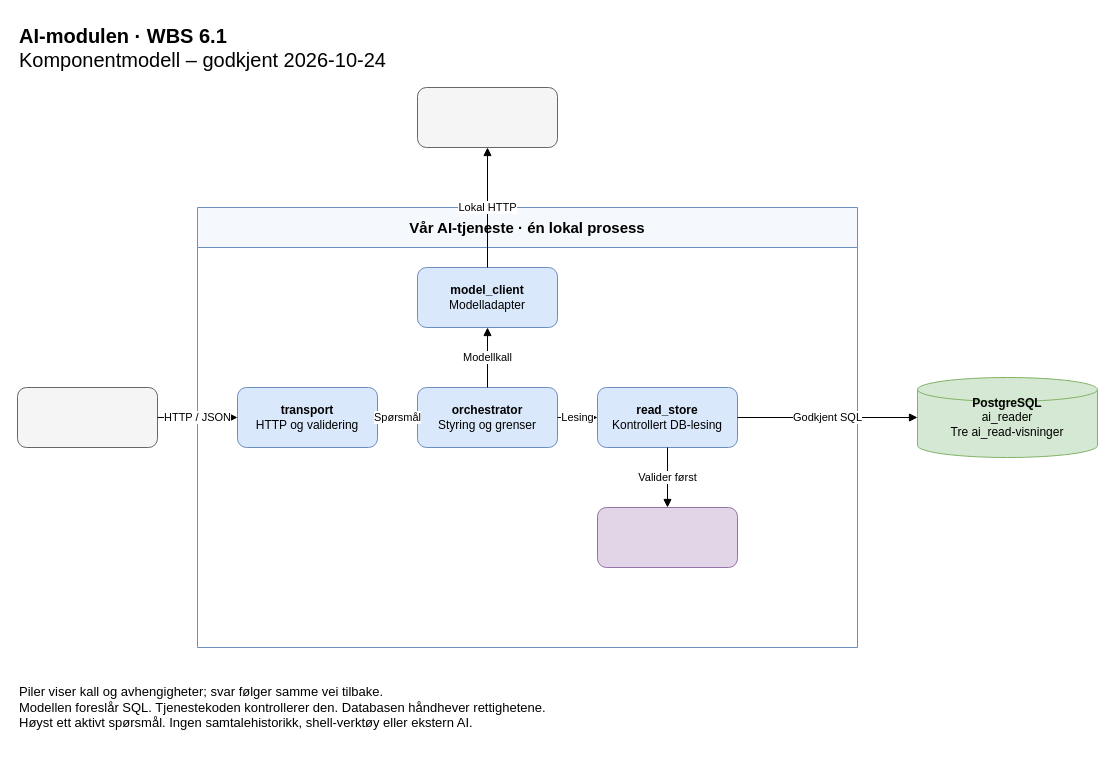
The diagram is 1115 pixels wide and 764 high, and some of its shapes have lost their labels. The shapes that lost their labels are listed below. From the top down, each one's centre as x and y in pixels, then its label:
the point at 487,117: Ollama + Qwen Lokal modell · til utprøving
the point at 87,417: Backend API Innlogget spiller
the point at 667,537: query_policy Kontroll av SQL
